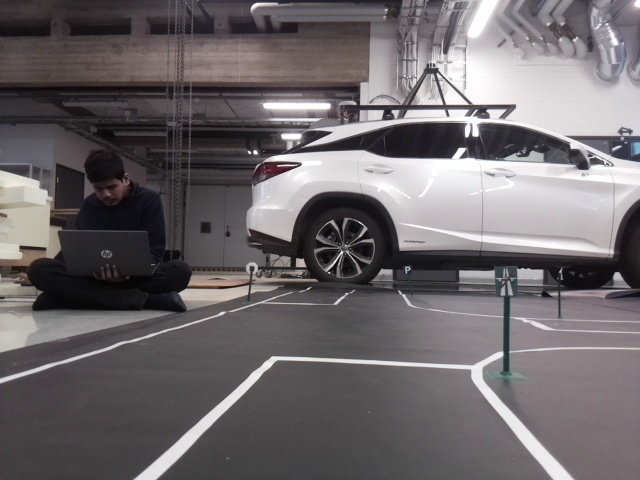HighwayExit: (494, 266, 515, 295)
